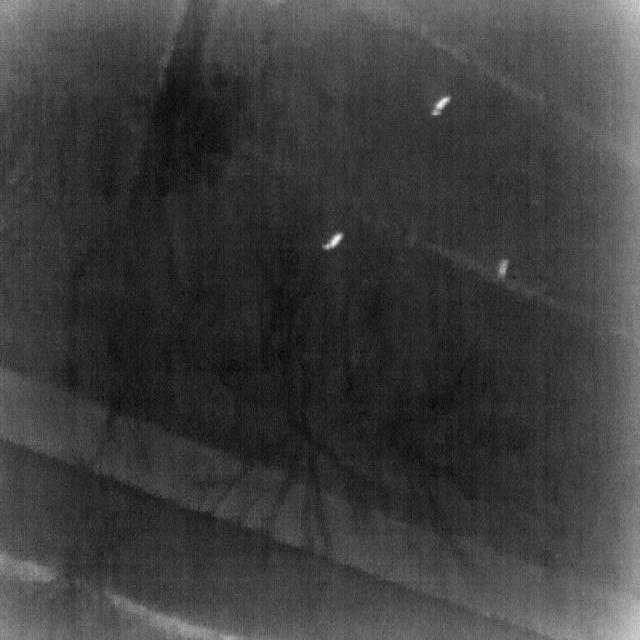deer: (321, 230, 345, 252), (430, 94, 452, 117), (496, 258, 510, 284)
